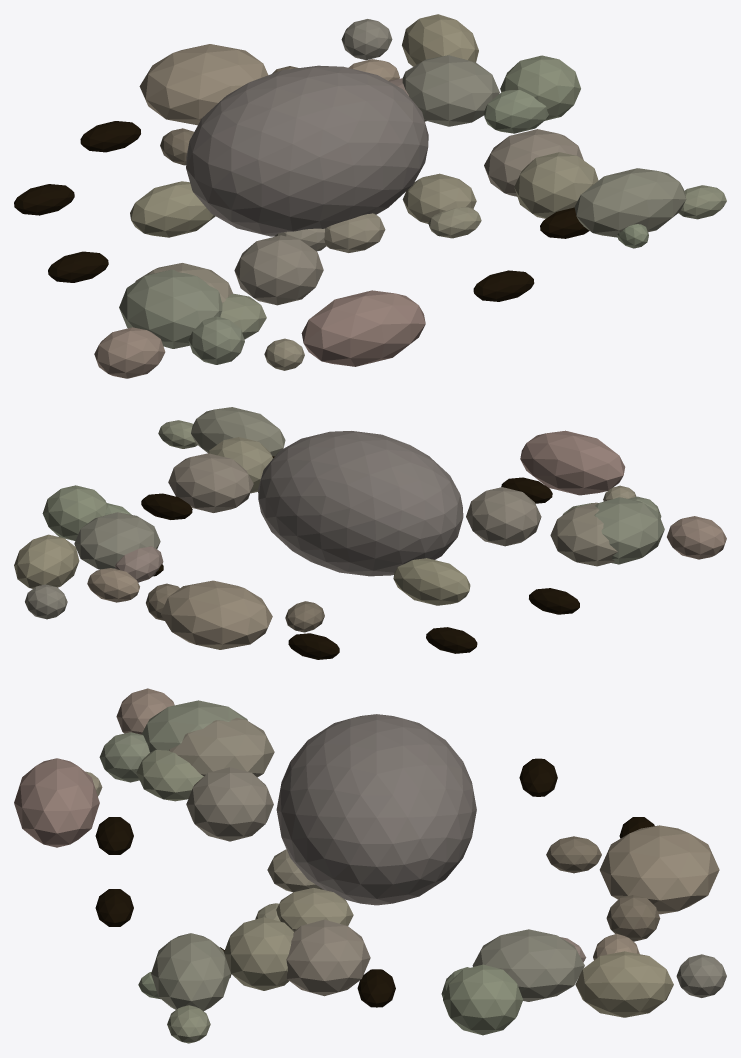
Rendered from Meteorite_Field_Babylon.glb.
The picture shows the model from 3 angles, top to bottom: view 1: azimuth 30°, elevation 25°; view 2: azimuth 150°, elevation 25°; view 3: azimuth 270°, elevation 25°; orthographic projection. The views are drawn at different scales.
Parts seen in each view (by area): view 1: Main_Meteorite, Meteorite_Fragment_21, Meteorite_Fragment_12, Meteorite_Fragment_8, Meteorite_Fragment_15, Meteorite_Fragment_24, Meteorite_Fragment_7, Meteorite_Fragment_26, Meteorite_Fragment_3, Meteorite_Fragment_5, Meteorite_Fragment_28, Meteorite_Fragment_6 (+20 smaller); view 2: Main_Meteorite, Meteorite_Fragment_12, Meteorite_Fragment_21, Meteorite_Fragment_28, Meteorite_Fragment_7, Meteorite_Fragment_24, Meteorite_Fragment_15, Meteorite_Fragment_8, Meteorite_Fragment_23, Meteorite_Fragment_3, Meteorite_Fragment_6, Meteorite_Fragment_5 (+13 smaller); view 3: Main_Meteorite, Meteorite_Fragment_12, Meteorite_Fragment_21, Meteorite_Fragment_24, Meteorite_Fragment_28, Meteorite_Fragment_6, Meteorite_Fragment_7, Meteorite_Fragment_8, Meteorite_Fragment_5, Meteorite_Fragment_23, Meteorite_Fragment_26, Meteorite_Fragment_15 (+14 smaller).
Boxes of the visible parts, box(x1,y1,x2,y2) form: Main_Meteorite: box(186, 65, 428, 236); Meteorite_Fragment_21: box(301, 290, 425, 366); Meteorite_Fragment_12: box(139, 44, 268, 125); Meteorite_Fragment_8: box(574, 168, 686, 237); Meteorite_Fragment_15: box(119, 269, 222, 348); Meteorite_Fragment_24: box(402, 55, 499, 126); Meteorite_Fragment_7: box(234, 235, 323, 305); Meteorite_Fragment_26: box(514, 152, 598, 218); Meteorite_Fragment_3: box(130, 181, 215, 237); Meteorite_Fragment_5: box(500, 55, 580, 120); Meteorite_Fragment_28: box(484, 129, 583, 196); Meteorite_Fragment_6: box(402, 14, 478, 66); Main_Meteorite: box(258, 431, 463, 576); Meteorite_Fragment_12: box(161, 580, 272, 649); Meteorite_Fragment_21: box(520, 430, 625, 495); Meteorite_Fragment_28: box(168, 453, 253, 512); Meteorite_Fragment_7: box(466, 487, 541, 546); Meteorite_Fragment_24: box(74, 512, 160, 569); Meteorite_Fragment_15: box(594, 497, 664, 564); Meteorite_Fragment_8: box(191, 407, 285, 456); Meteorite_Fragment_23: box(550, 502, 617, 566); Meteorite_Fragment_3: box(393, 558, 470, 605); Meteorite_Fragment_6: box(14, 534, 79, 588); Meteorite_Fragment_5: box(42, 485, 107, 540); Main_Meteorite: box(276, 714, 476, 905); Meteorite_Fragment_12: box(599, 825, 719, 914); Meteorite_Fragment_21: box(14, 758, 99, 847); Meteorite_Fragment_24: box(472, 929, 584, 1001); Meteorite_Fragment_28: box(286, 919, 370, 996); Meteorite_Fragment_6: box(575, 951, 673, 1017); Meteorite_Fragment_7: box(186, 767, 273, 841); Meteorite_Fragment_8: box(151, 933, 230, 1011); Meteorite_Fragment_5: box(443, 964, 522, 1035); Meteorite_Fragment_23: box(169, 717, 274, 777); Meteorite_Fragment_26: box(224, 917, 293, 990); Meteorite_Fragment_15: box(141, 700, 247, 752).
Size of the model in its own units: 15.55 by 3.4 by 14.24.
